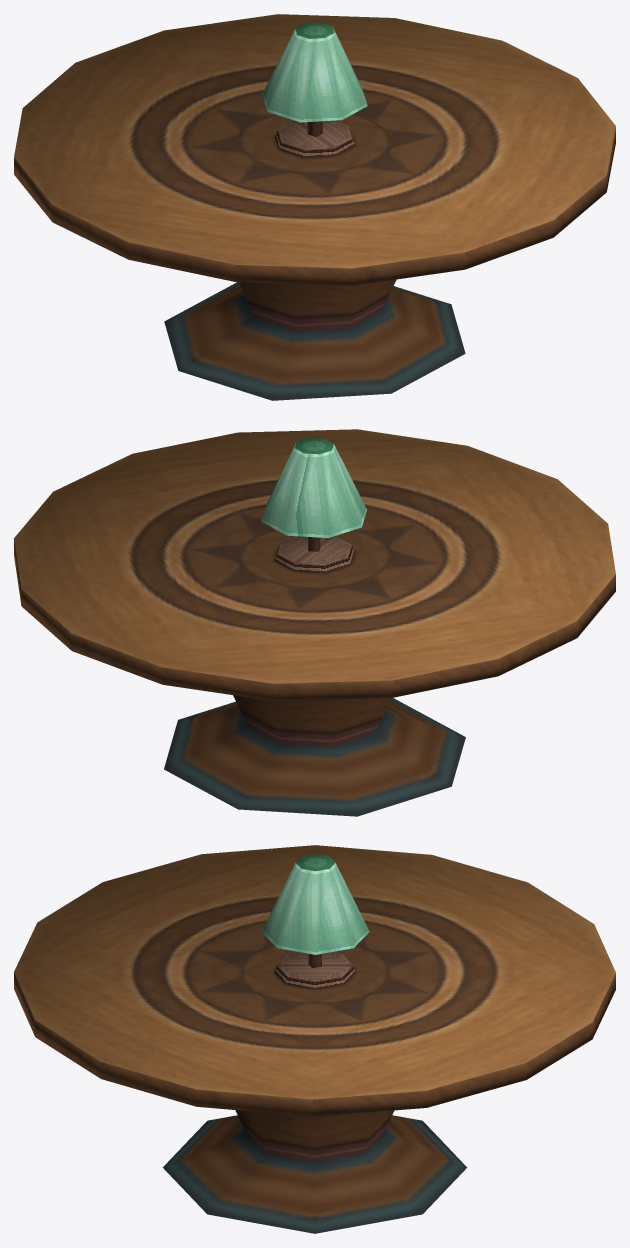
File: a_SCtable03.glb
3 renders of one model, top to bottom at view 1: azimuth 30°, elevation 25°; view 2: azimuth 150°, elevation 25°; view 3: azimuth 270°, elevation 25°, orthographic.
Parts seen in each view (by area): view 1: a_SCtable03; view 2: a_SCtable03; view 3: a_SCtable03.
Boxes of the visible parts, <box> form: a_SCtable03: <box>14,14,615,400</box>; a_SCtable03: <box>14,429,615,816</box>; a_SCtable03: <box>14,845,615,1233</box>.
Size of the model in its own units: 1.84 by 1.03 by 1.84.
Materials: 2 (2 with a texture image).
